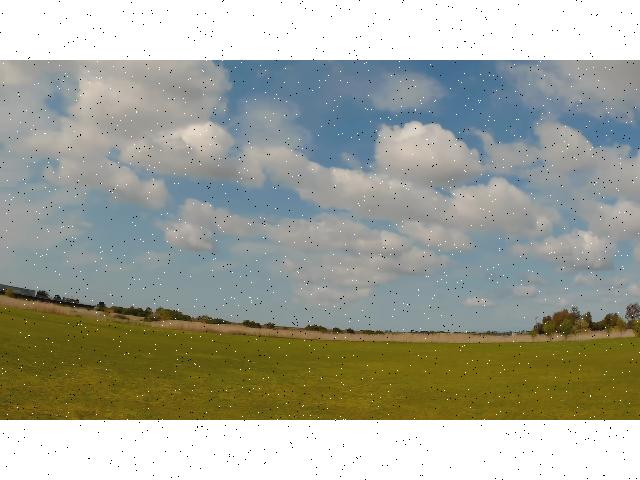Anti-Drone: (290, 142, 308, 156)
